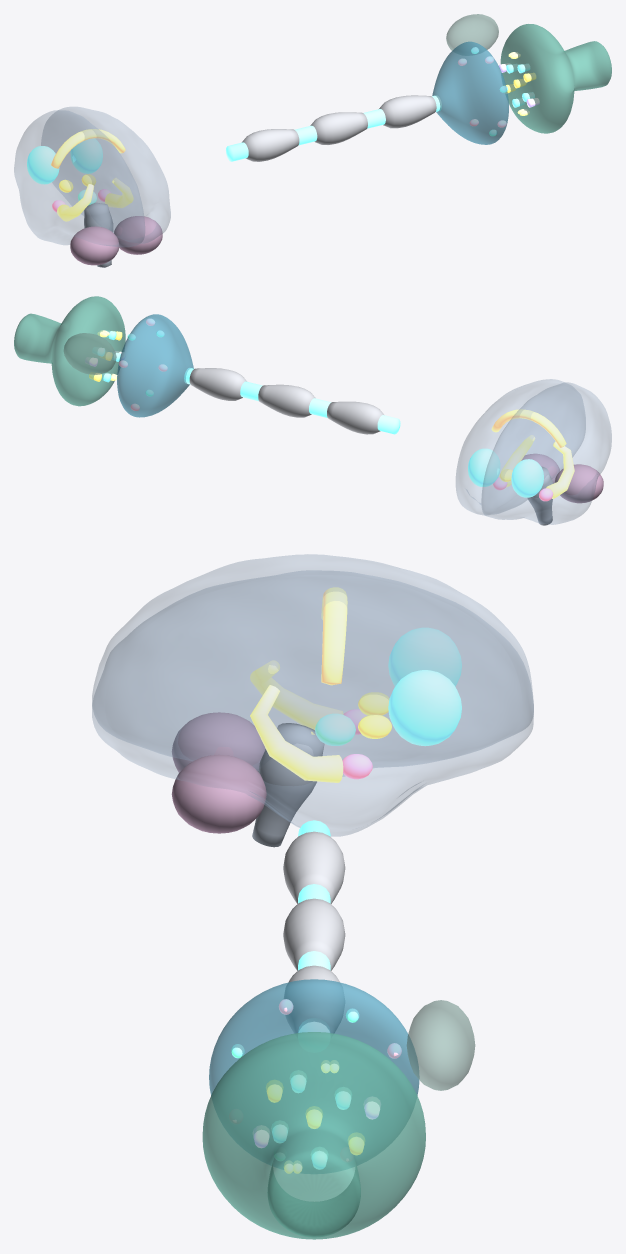
File: brain_synapse.glb
3 renders of one model, top to bottom at view 1: azimuth 30°, elevation 25°; view 2: azimuth 150°, elevation 25°; view 3: azimuth 270°, elevation 25°, orthographic. The views are drawn at different scales.
Parts seen in each view (by area): view 1: Cerebral_Cortex_Shell, Postsynaptic_Dendritic_Spine, Presynaptic_Terminal, Neuron_Myelin_Sheaths, Cerebellum, Prefrontal_Cortex, Astrocyte_Endfoot, Neuron_Axon_Shaft, Hippocampus, Motor_Cortex, Brainstem, Receptors_AMPA; view 2: Cerebral_Cortex_Shell, Postsynaptic_Dendritic_Spine, Presynaptic_Terminal, Neuron_Myelin_Sheaths, Prefrontal_Cortex, Astrocyte_Endfoot, Cerebellum, Hippocampus, Neuron_Axon_Shaft, Motor_Cortex, Brainstem; view 3: Cerebral_Cortex_Shell, Postsynaptic_Dendritic_Spine, Presynaptic_Terminal, Cerebellum, Neuron_Myelin_Sheaths, Prefrontal_Cortex, Hippocampus, Astrocyte_Endfoot, Brainstem, Motor_Cortex, Neuron_Axon_Shaft, Nucleus_Accumbens (+4 smaller).
Boxes of the visible parts, x1,y1,x2,y2 form: Cerebral_Cortex_Shell: (14,107,170,246); Postsynaptic_Dendritic_Spine: (500,24,611,133); Presynaptic_Terminal: (432,41,508,144); Neuron_Myelin_Sheaths: (242,95,436,161); Cerebellum: (70,216,162,265); Prefrontal_Cortex: (27,138,102,184); Astrocyte_Endfoot: (446,14,498,50); Neuron_Axon_Shaft: (226,95,441,161); Hippocampus: (57,178,133,221); Motor_Cortex: (51,129,125,168); Brainstem: (84,202,113,267); Receptors_AMPA: (506,64,534,107); Cerebral_Cortex_Shell: (456,379,611,524); Postsynaptic_Dendritic_Spine: (14,296,125,406); Presynaptic_Terminal: (117,314,193,417); Neuron_Myelin_Sheaths: (189,368,383,434); Prefrontal_Cortex: (468,448,543,497); Astrocyte_Endfoot: (63,333,116,374); Cerebellum: (521,453,603,503); Hippocampus: (499,435,574,498); Neuron_Axon_Shaft: (184,368,400,434); Motor_Cortex: (491,409,566,447); Brainstem: (527,466,553,525); Cerebral_Cortex_Shell: (92,554,533,836); Postsynaptic_Dendritic_Spine: (202,1032,425,1239); Presynaptic_Terminal: (209,979,419,1095); Cerebellum: (171,712,266,833); Neuron_Myelin_Sheaths: (283,831,345,1033); Prefrontal_Cortex: (388,627,461,746); Hippocampus: (250,660,343,782); Astrocyte_Endfoot: (406,1000,475,1090); Brainstem: (252,723,324,847); Motor_Cortex: (321,587,347,685); Neuron_Axon_Shaft: (298,820,330,1032); Nucleus_Accumbens: (358,692,391,738).
Size of the model in its own units: 4.97 by 1.16 by 1.68.
